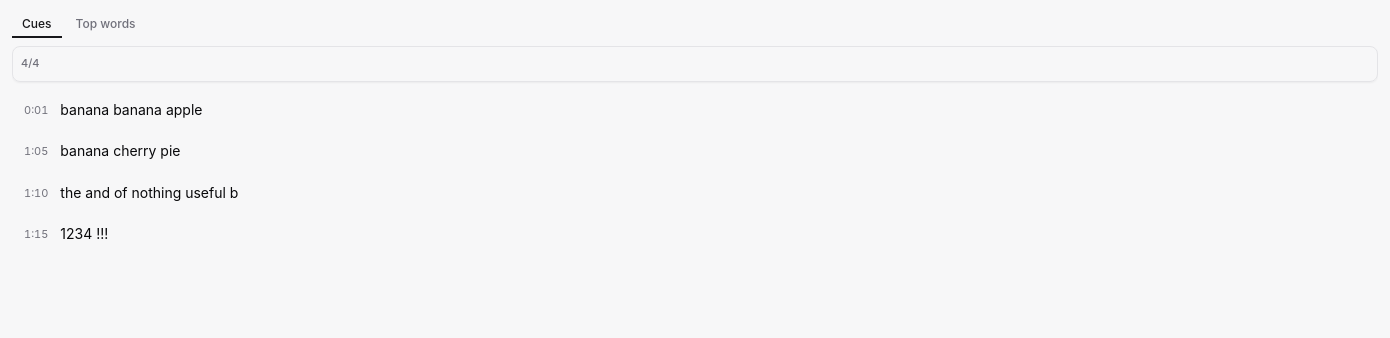
Test: TranscriptPanel › top words › ranks non-stopwords by count then alphabetically
Click the button "Top words" at (106, 25), box [66,12,146,38]
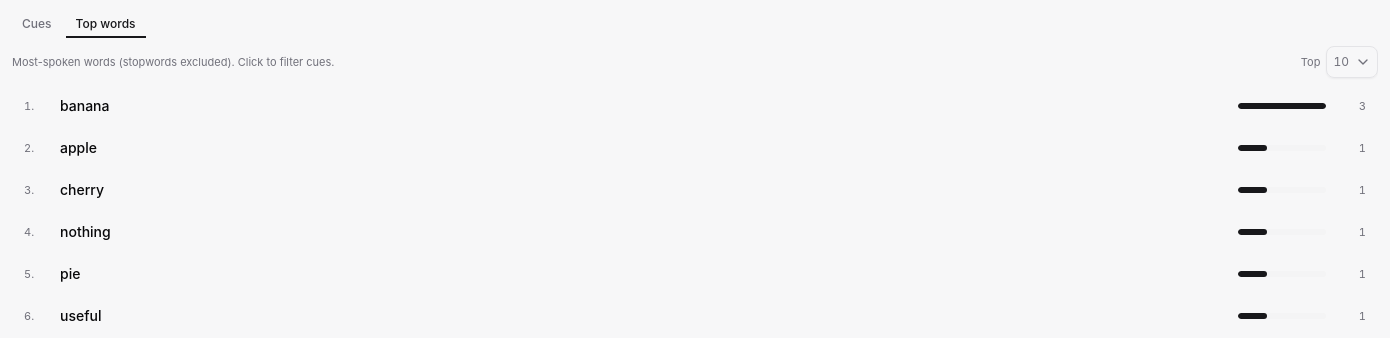
Expected: the button "10" is shown, [1326,46,1378,78]
Result: the button "1. banana 3" is shown at [12,86,1378,126]
